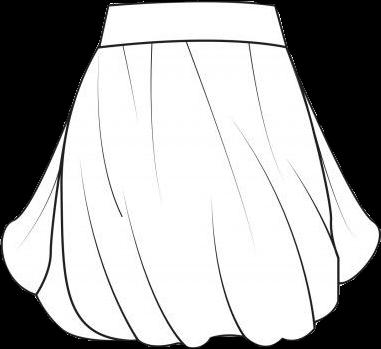Hemline: (1, 222, 380, 348)
Waistline: (96, 38, 287, 50), (107, 0, 275, 8)
